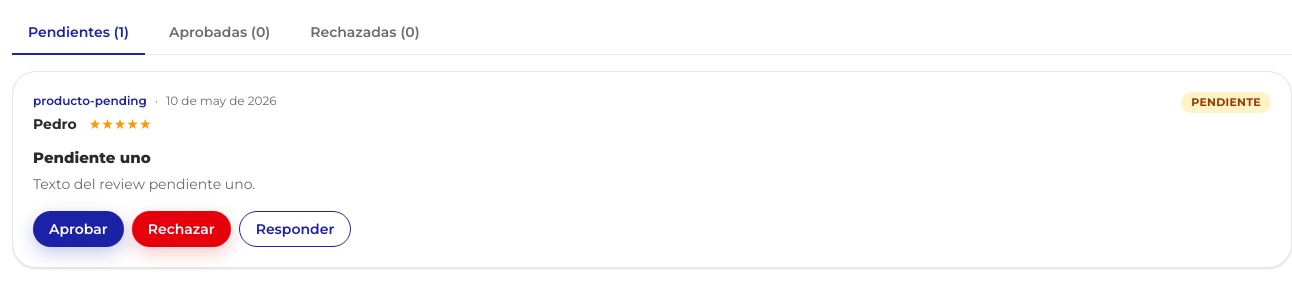
Test: ReviewsModerationPanel › muestra EmptyState cuando una tab no tiene reviews
Click the tab "Aprobadas (0)" at (220, 34), box [153,12,286,55]
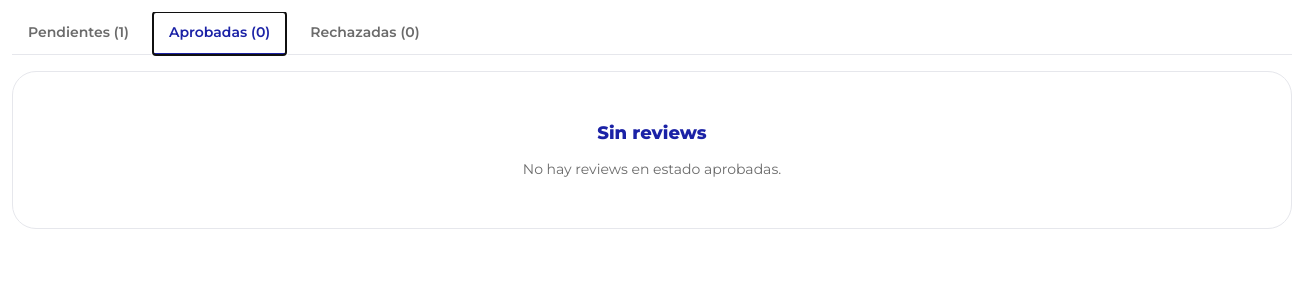
Expected: the heading "Sin reviews" is shown, [597,120,707,147]
